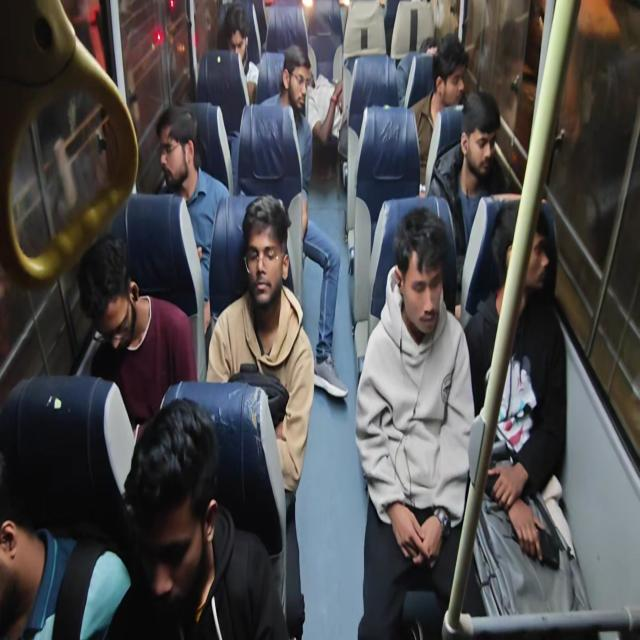person: (462, 197, 588, 617), (354, 206, 476, 638), (206, 194, 315, 637), (104, 396, 291, 639), (0, 374, 135, 639), (259, 43, 348, 399), (76, 232, 198, 436), (425, 90, 521, 298), (155, 104, 230, 332), (408, 32, 468, 192), (218, 5, 259, 104)
